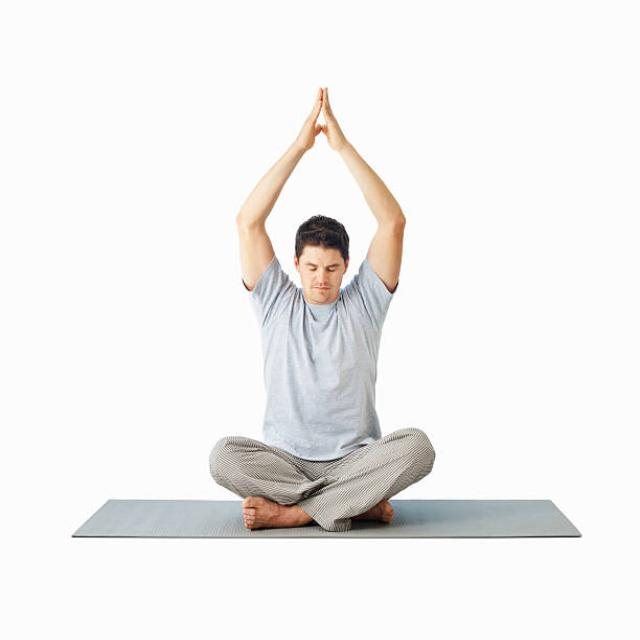Edited images: (197, 74, 448, 544)
